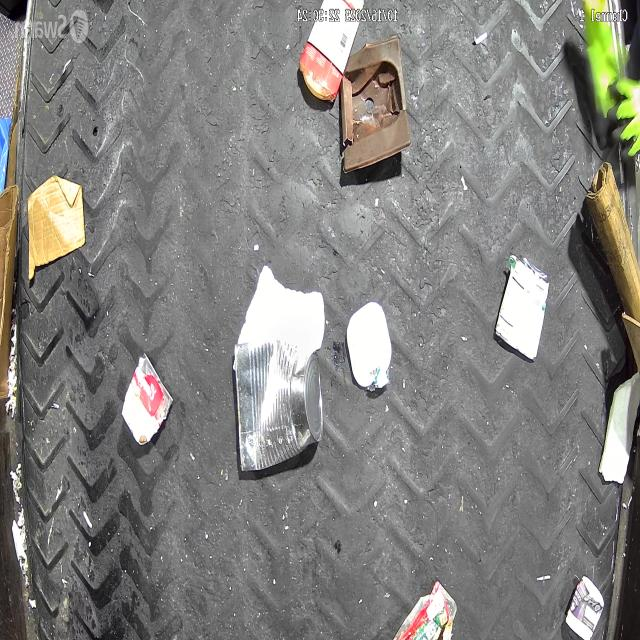can: (235, 339, 323, 471), (494, 253, 550, 363), (121, 353, 173, 446)
